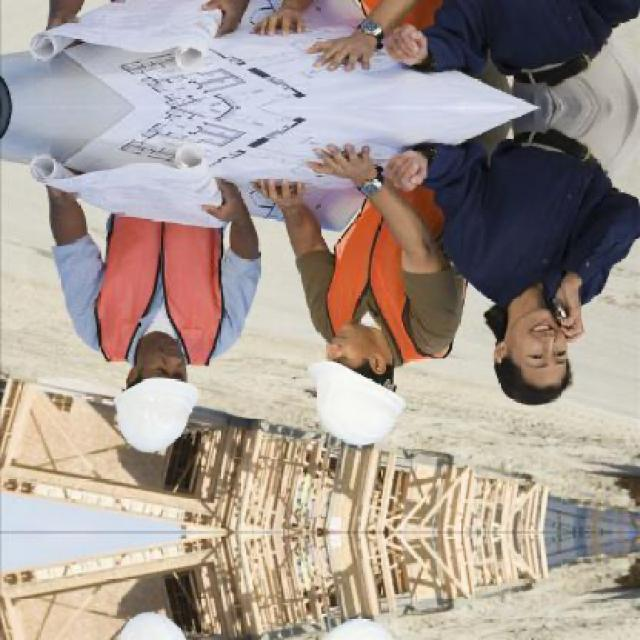con casco: (301, 325, 428, 451), (112, 337, 222, 472)
sin casco: (476, 282, 602, 411)
